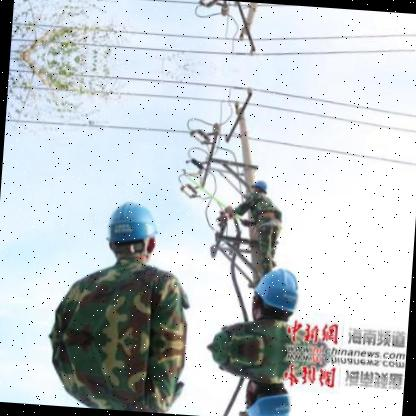capacete: (102, 196, 169, 252), (247, 256, 306, 312), (246, 177, 271, 195)
